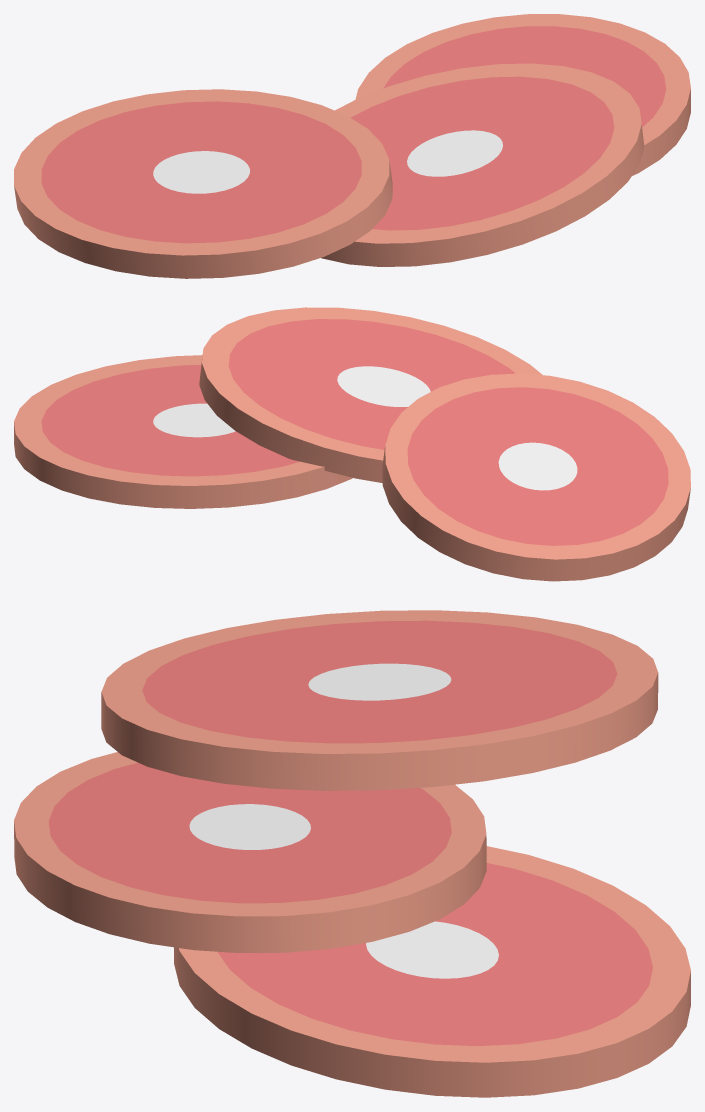
The model's file is szynka_pokroiona.gltf.
3 views of the same model, one above another, from view 1: azimuth 30°, elevation 25°; view 2: azimuth 150°, elevation 25°; view 3: azimuth 270°, elevation 25° (orthographic). The views are drawn at different scales.
Visible parts, largest first — view 1: Sphere.001, Sphere.006, Sphere.005; view 2: Sphere.001, Sphere.006, Sphere.005; view 3: Sphere.001, Sphere.005, Sphere.006.
Part boxes in pixels (x1,y1,x2,y2): Sphere.001: (14,89,392,278); Sphere.006: (321,63,644,266); Sphere.005: (355,14,690,175); Sphere.001: (382,373,690,581); Sphere.006: (199,307,542,482); Sphere.005: (14,355,352,508); Sphere.001: (101,610,658,790); Sphere.005: (174,846,690,1097); Sphere.006: (14,752,486,952).
Bounding box in the file's own units: 0.3128 × 0.0315 × 0.1969.
2 materials, 2 textured.
